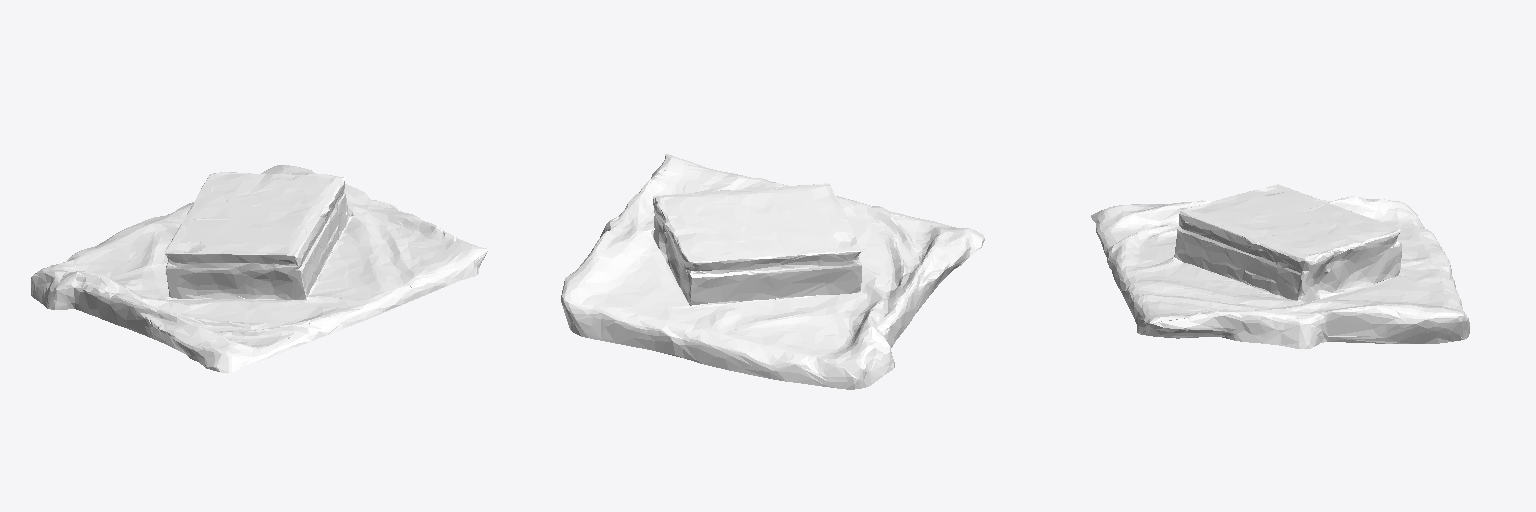
Rendered from bblend.obj.
The picture shows the model from 3 angles: view 1: azimuth 30°, elevation 25°; view 2: azimuth 150°, elevation 25°; view 3: azimuth 270°, elevation 25°; orthographic projection.
Visible parts, largest first — view 1: book_new; view 2: book_new; view 3: book_new.
Boxes of the visible parts, box(x1,y1,x2,y2) form: book_new: box(31, 165, 487, 372); book_new: box(561, 154, 984, 389); book_new: box(1091, 184, 1469, 348).
Size of the model in its own units: 7.52 by 1.96 by 7.39.